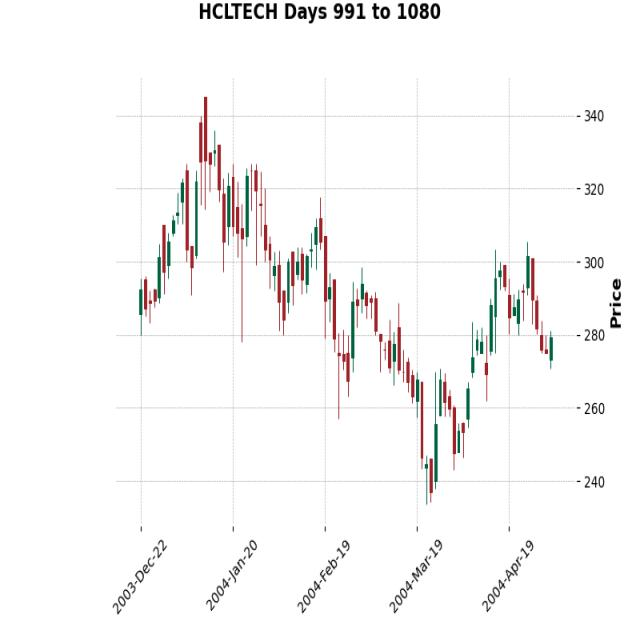Ascending Triangle: (370, 230, 536, 497)
